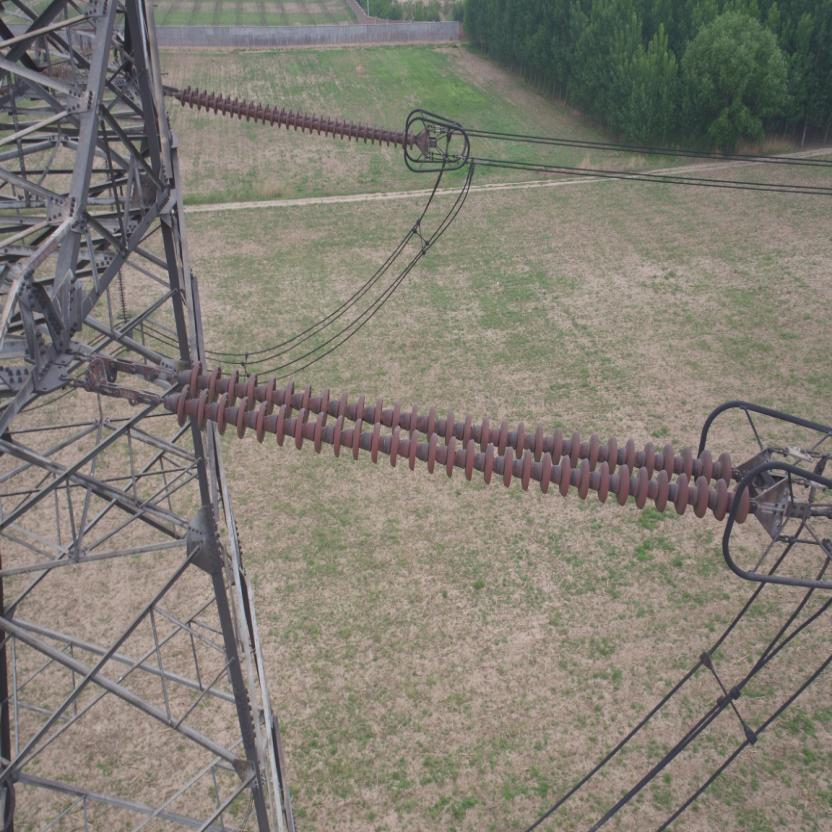insulator: (121, 354, 764, 528), (169, 79, 421, 151)
